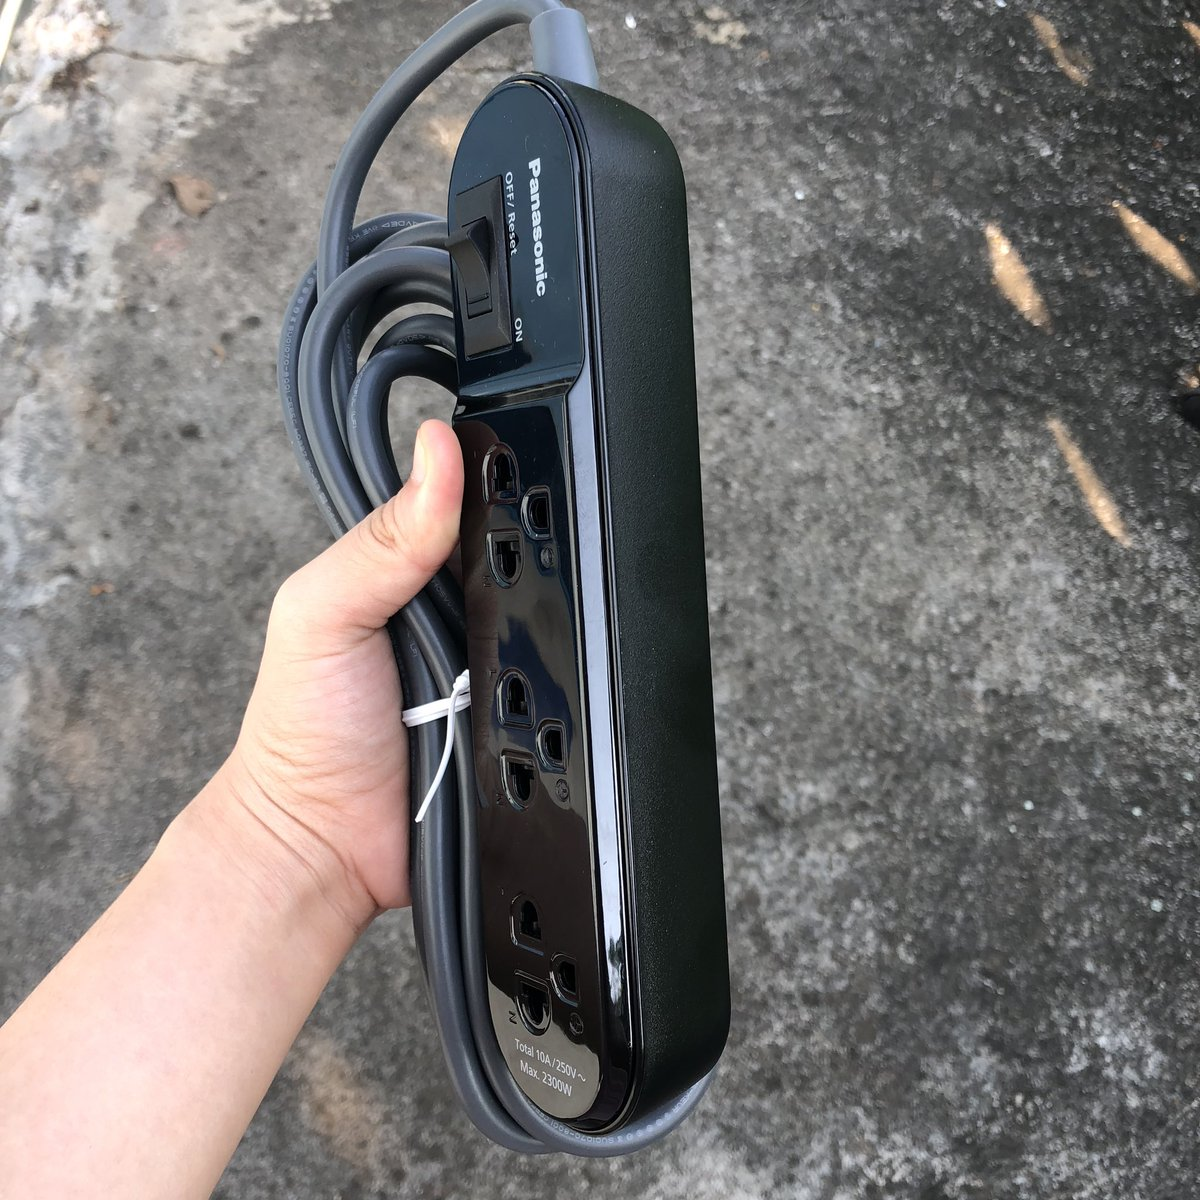Three_eye_plug: (379, 38, 749, 1157)
